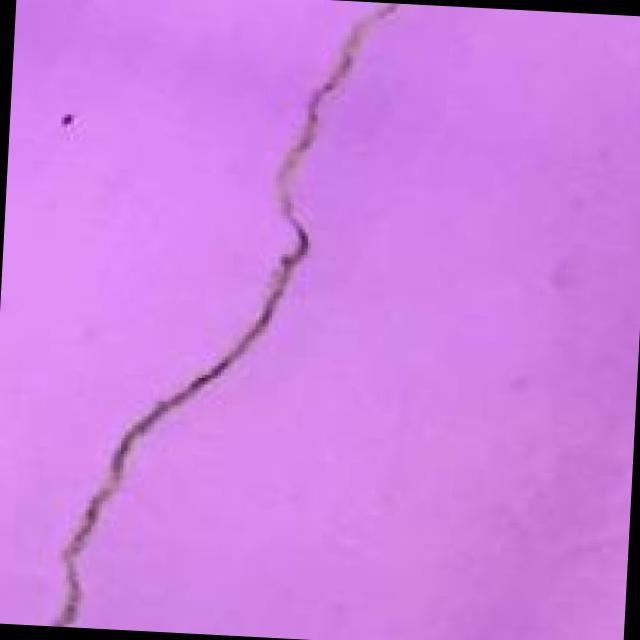crack: (50, 0, 387, 639)
